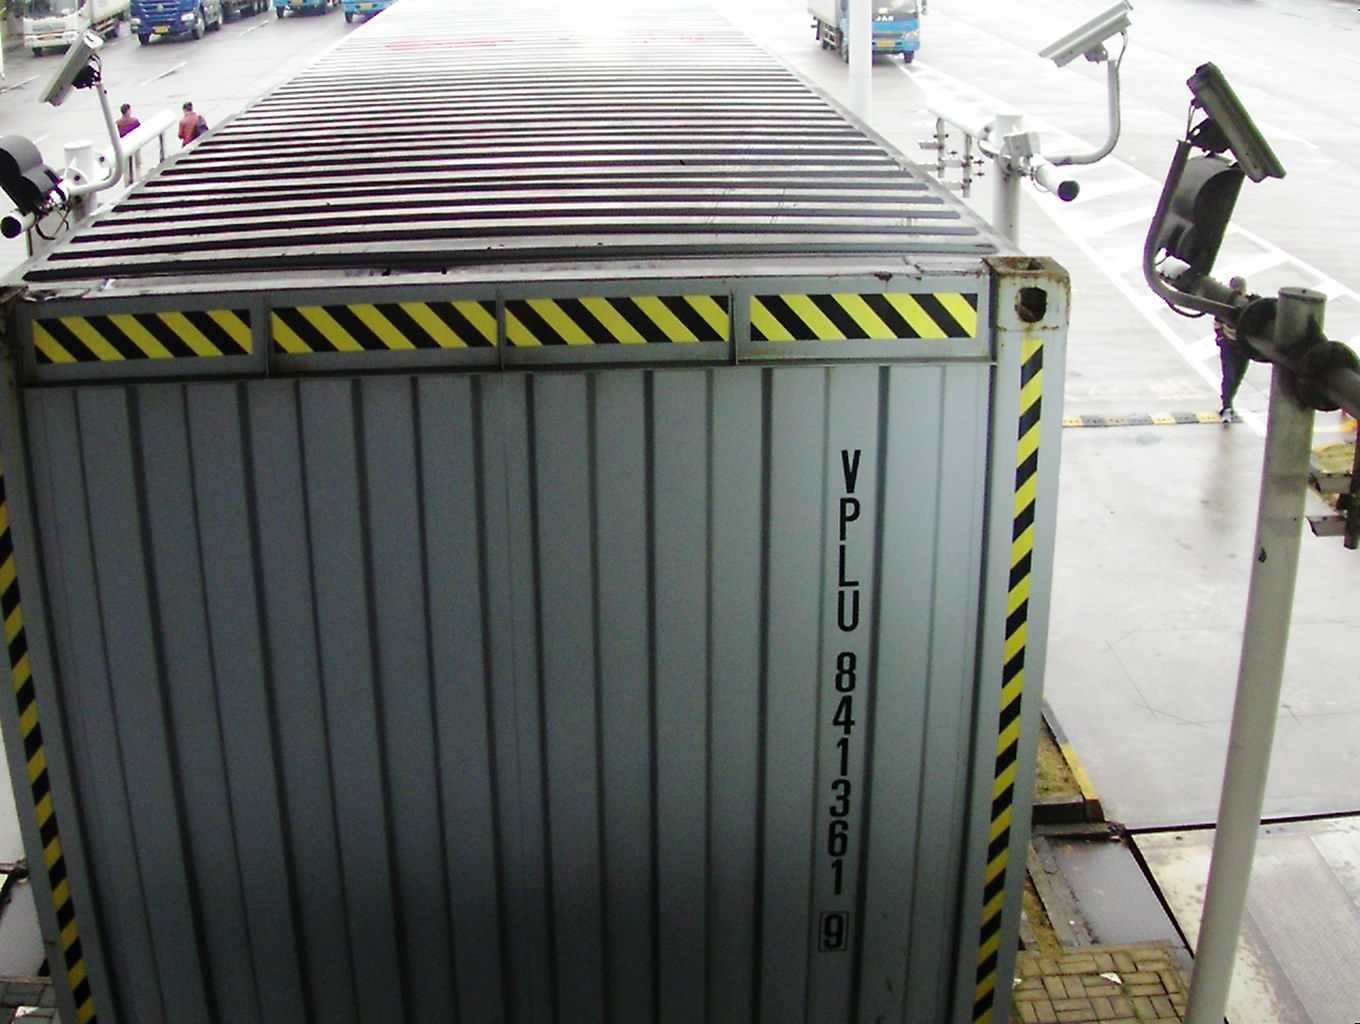words: (822, 436, 867, 955)
